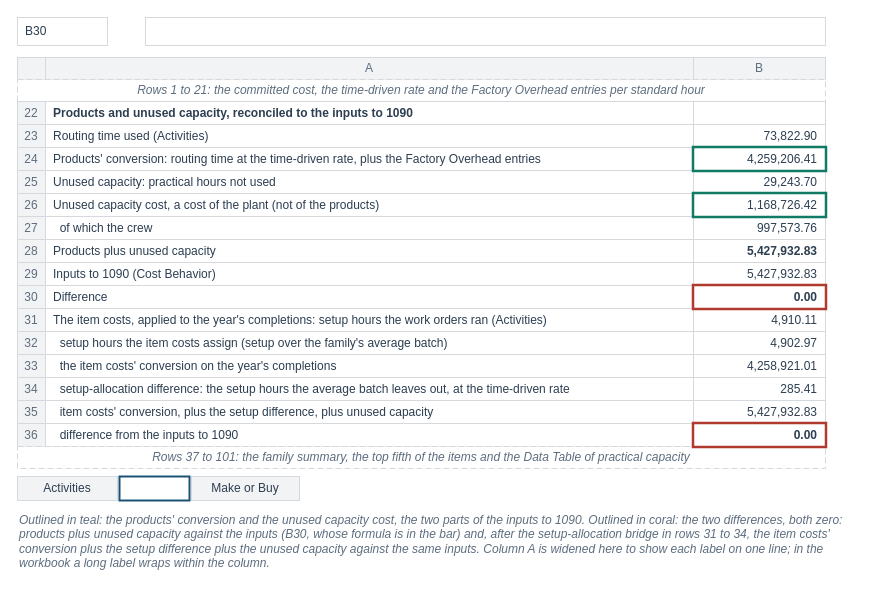
This 895x594 diagram has some shape labels left out. Here are the shapes that lost their labels. From the top down, the centre of each, then its label:
(x=126, y=31): fx
(x=485, y=31): =ProductsConversion+UnusedCost-Inputs1090
(x=154, y=488): Costs
